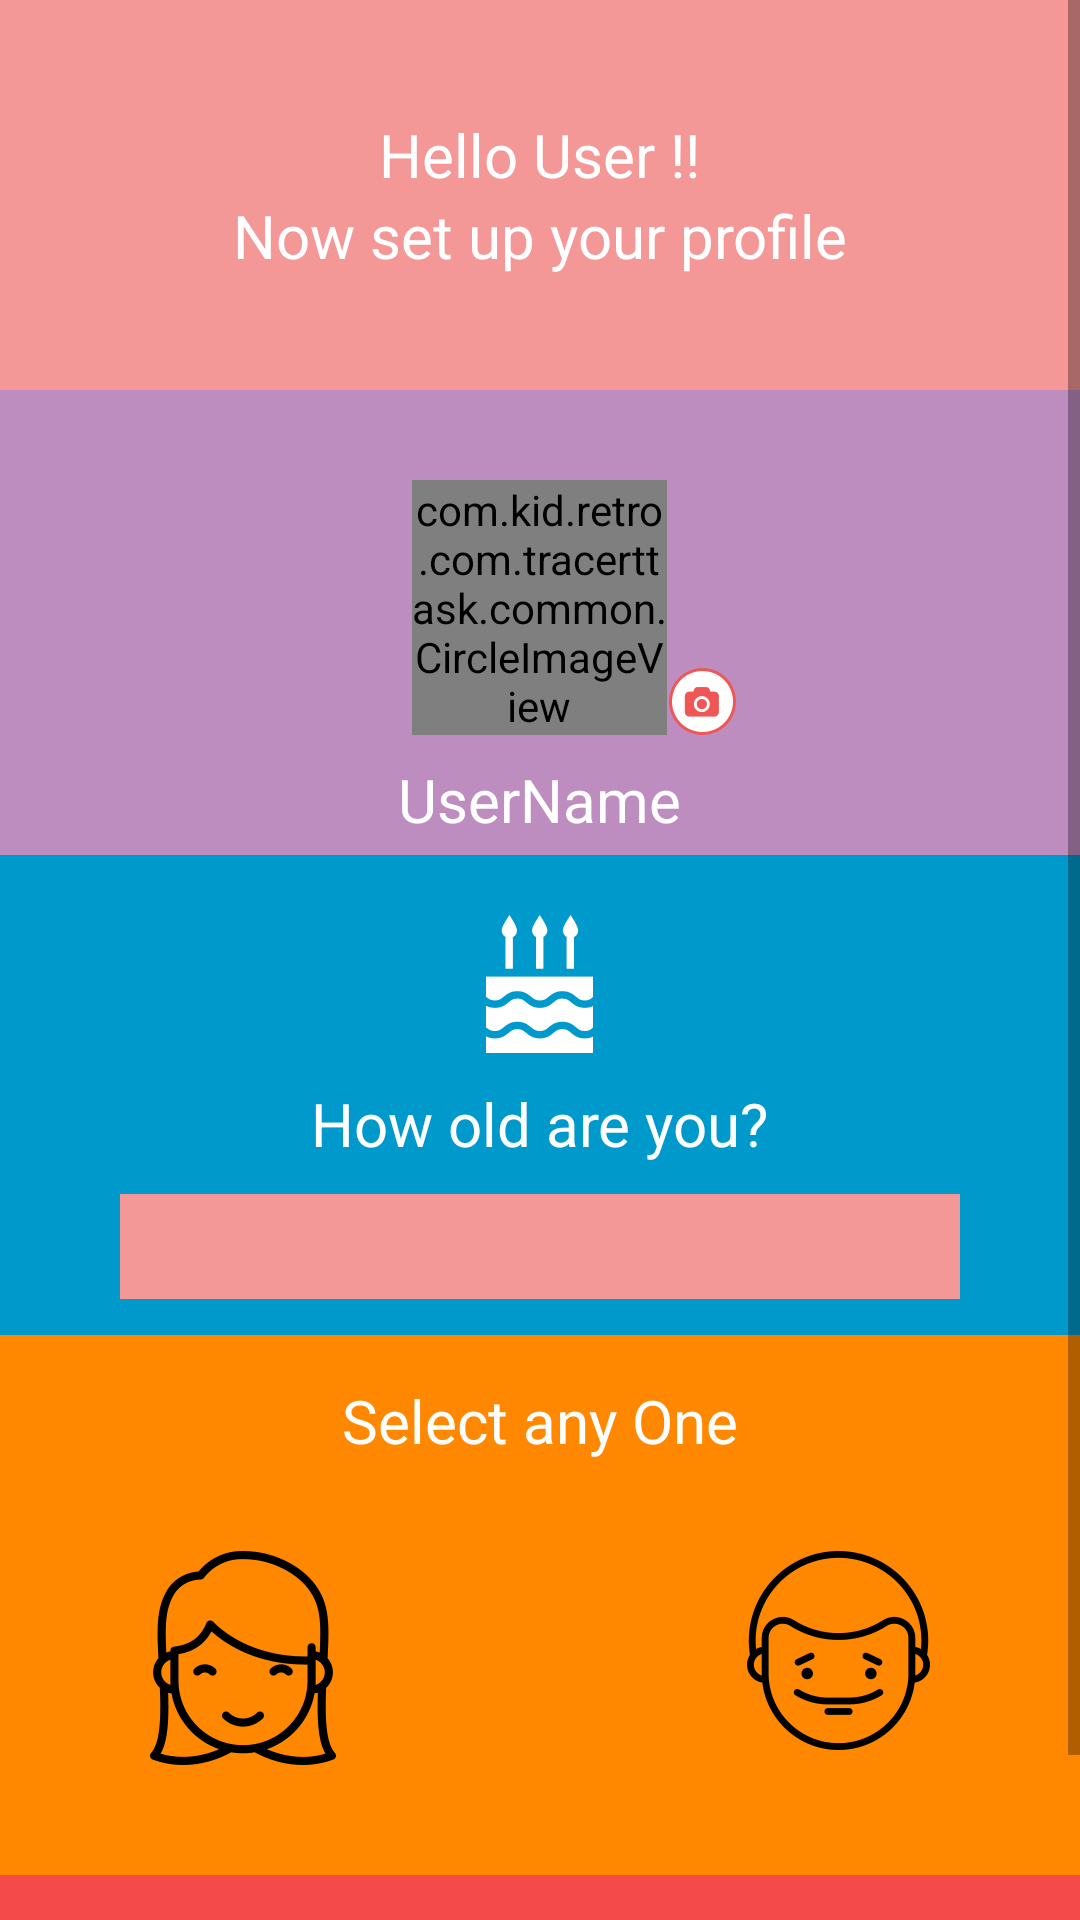

Locate icon controls on the screen. Image size 1080px x 1920px, boxes as BBox(x1, y1, x2, y2).
boy: BBox(747, 1551, 930, 1750)
cake: BBox(486, 915, 593, 1053)
cam: BBox(669, 668, 736, 735)
girl: BBox(150, 1551, 336, 1765)
